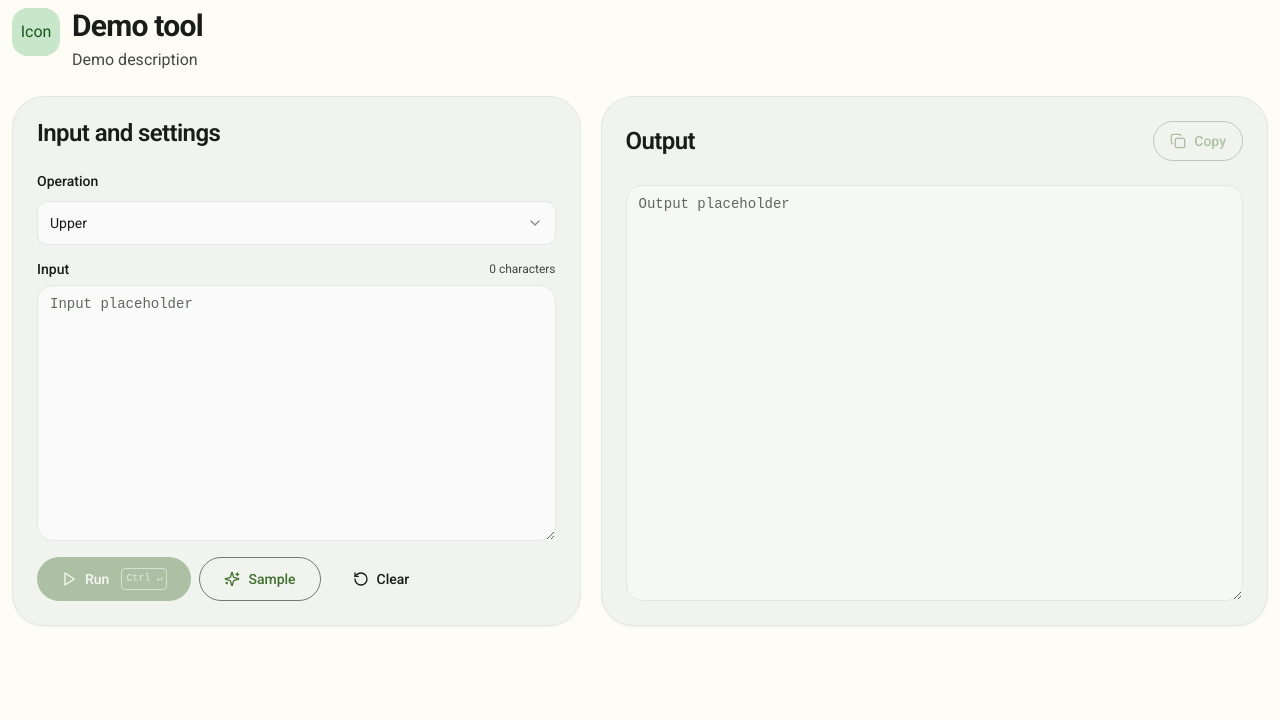
Test: UtilityWorkbench run flow › runs with Ctrl/Cmd+Enter from the input
Type "abc" into the text box labelled "Input" at (296, 413), box [37,285,556,541]
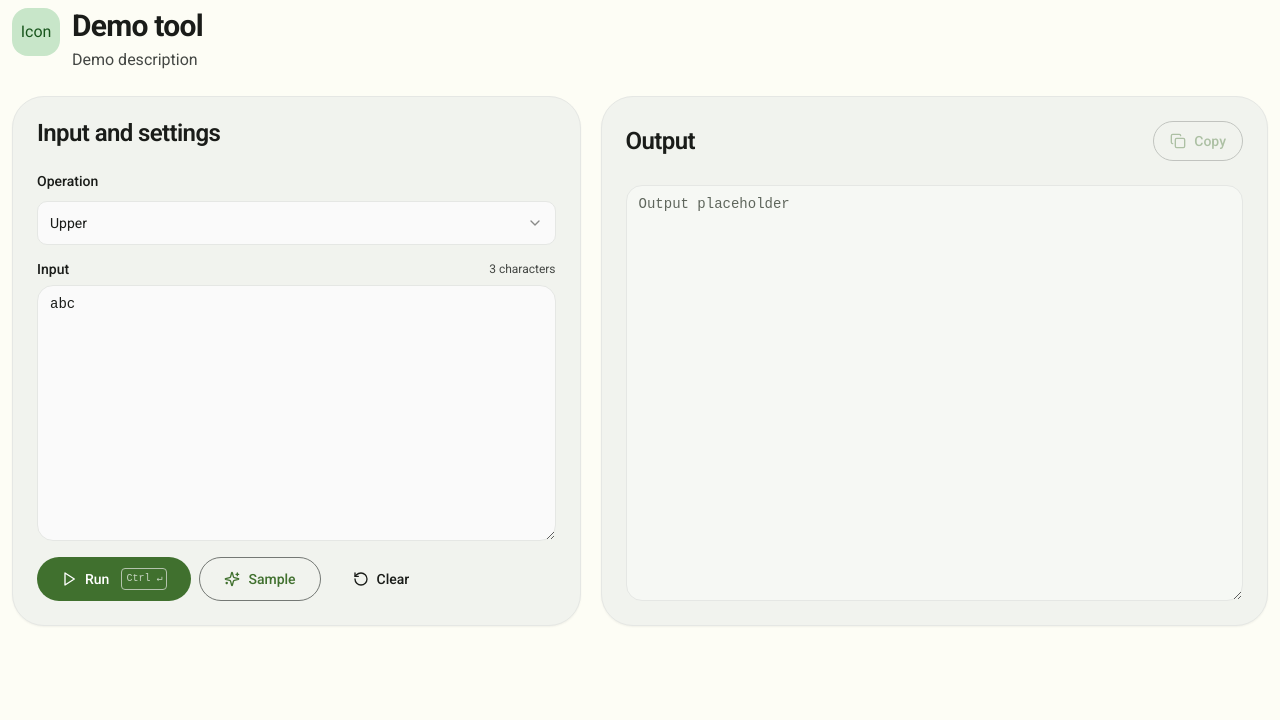
Press Enter in the text box labelled "Input", box [37,285,556,541]
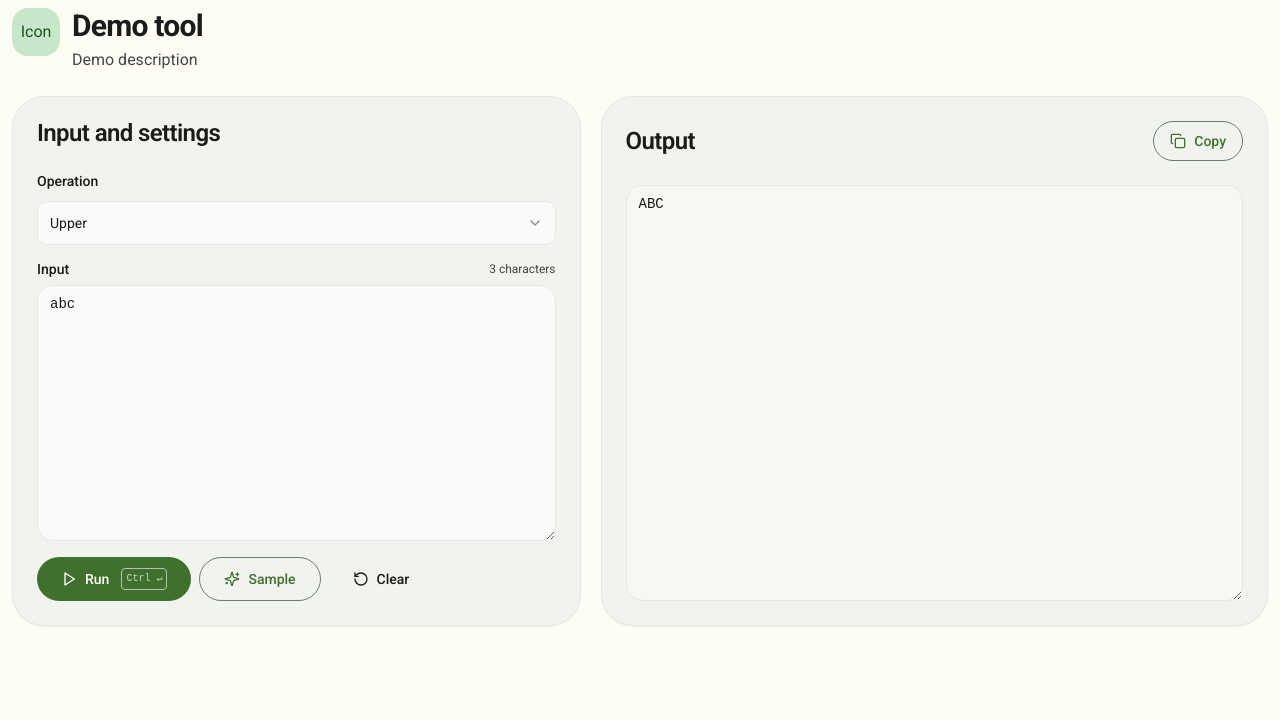
expect the 1st text box holds "ABC": met, box [626,185,1243,601]
Replace the text in the text box labelled "Input" with "xyz" at (296, 413), box [37,285,556,541]
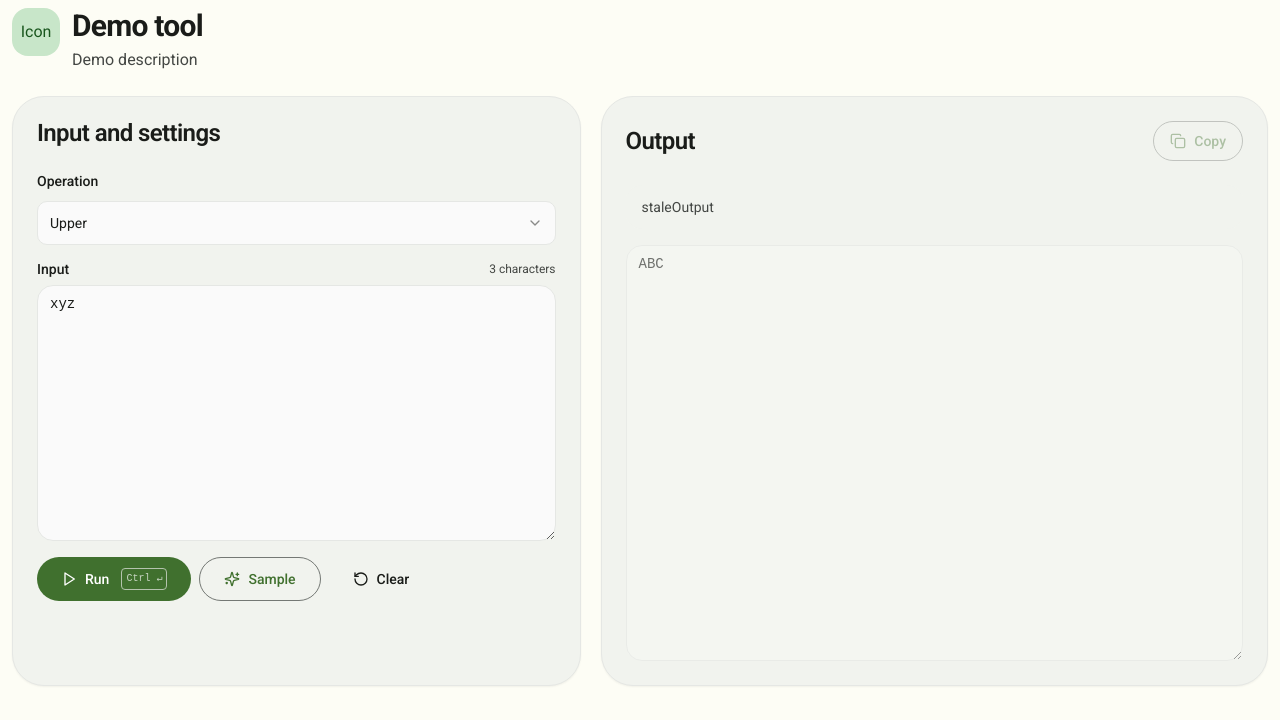
Press Enter in the text box labelled "Input", box [37,285,556,541]
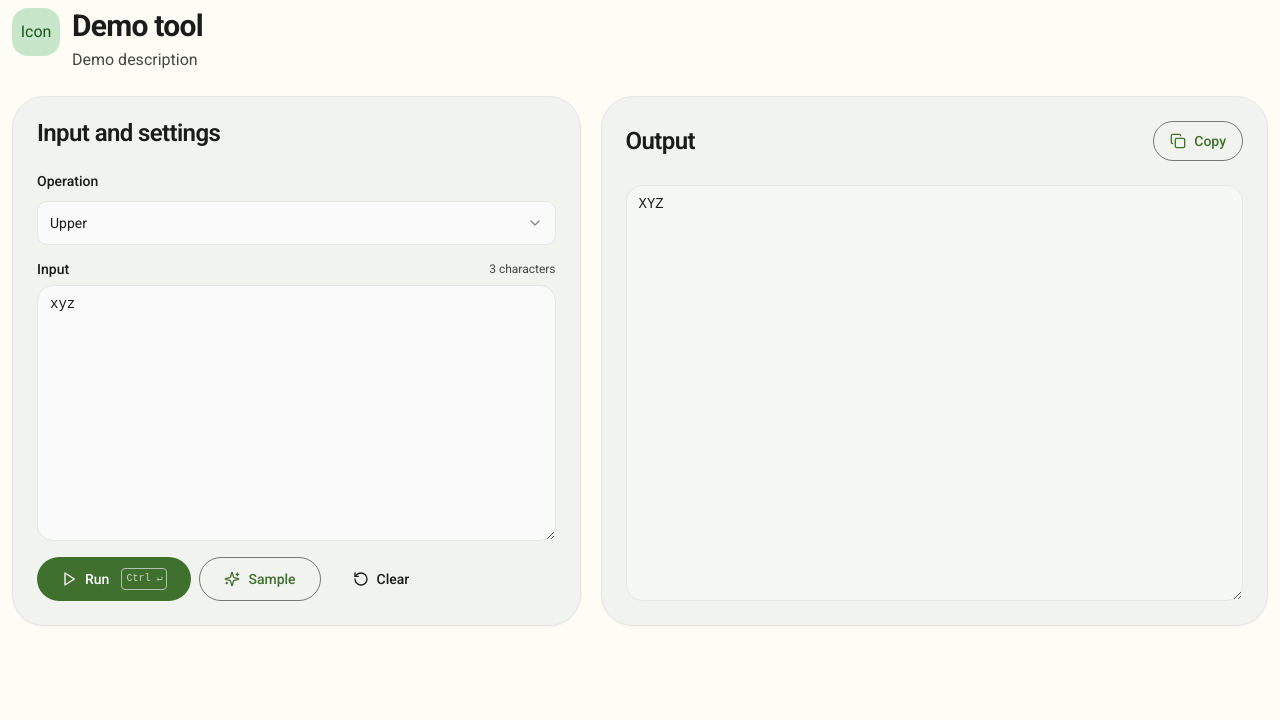
expect the 1st text box holds "XYZ": met, box [626,185,1243,601]
